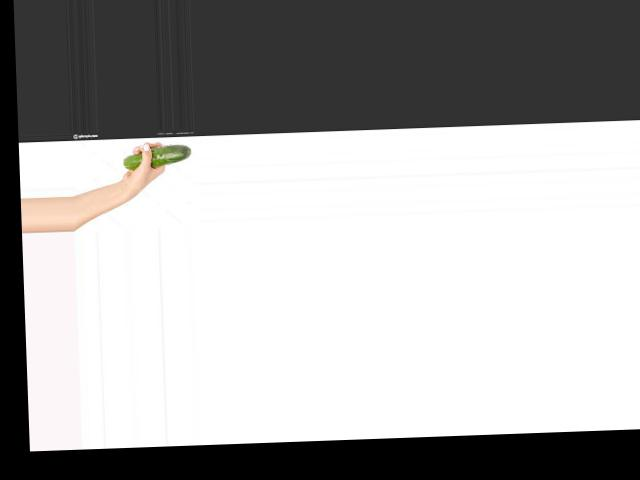cucumber: (123, 143, 192, 170)
